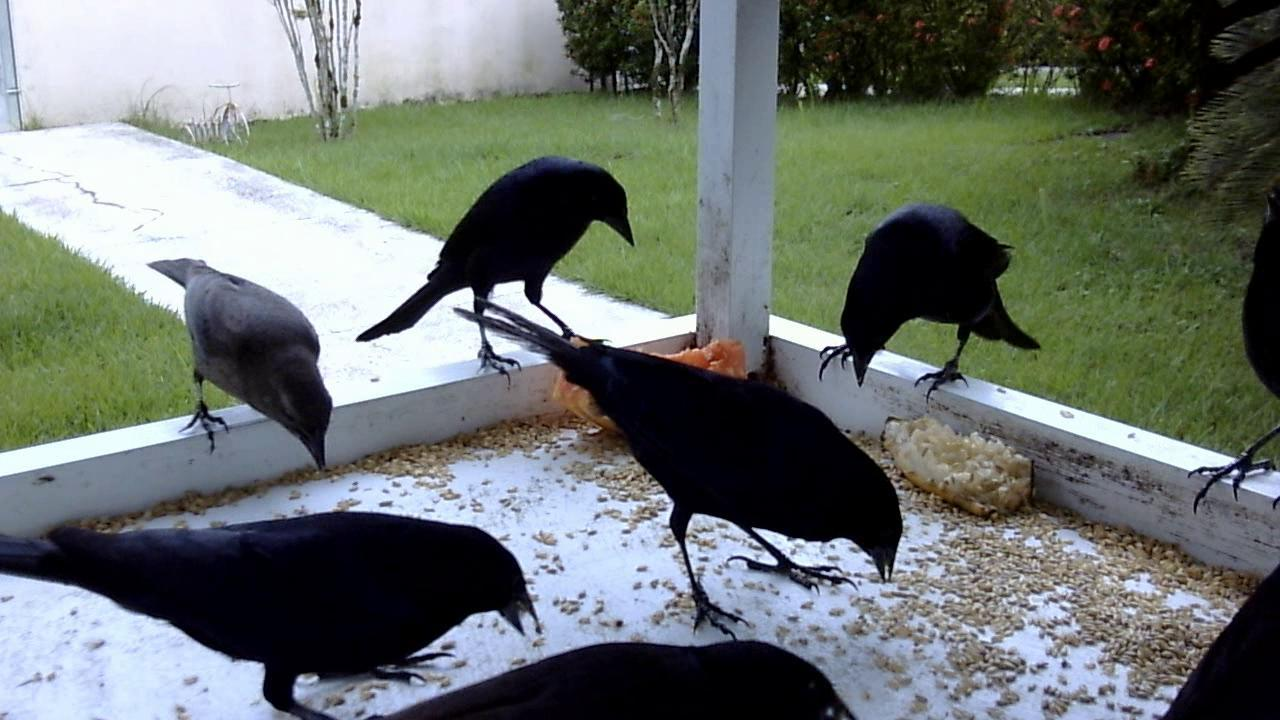chupim: (466, 277, 904, 652), (4, 477, 554, 720), (349, 151, 644, 397), (360, 601, 878, 715), (816, 196, 1048, 420), (129, 242, 345, 477), (1175, 160, 1280, 549)
